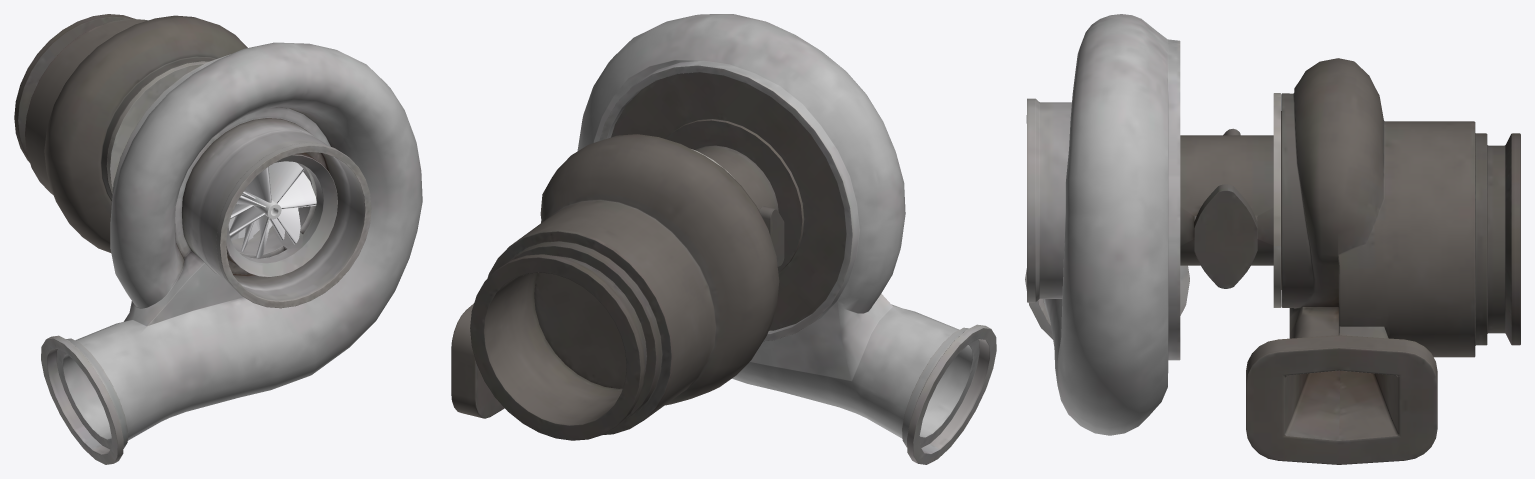
File: turbo.glb
3 views of the same model, side by side, from view 1: azimuth 30°, elevation 25°; view 2: azimuth 150°, elevation 25°; view 3: azimuth 270°, elevation 25° (orthographic). The views are drawn at different scales.
Parts seen in each view (by area): view 1: turbo; view 2: turbo; view 3: turbo.
Boxes of the visible parts, x1,y1,x2,y2 form: turbo: (14,14,422,464); turbo: (451,14,996,464); turbo: (1025,14,1520,464).
Size of the model in its own units: 0.9655 by 0.9446 by 1.
Materials: 1 (1 with a texture image).
